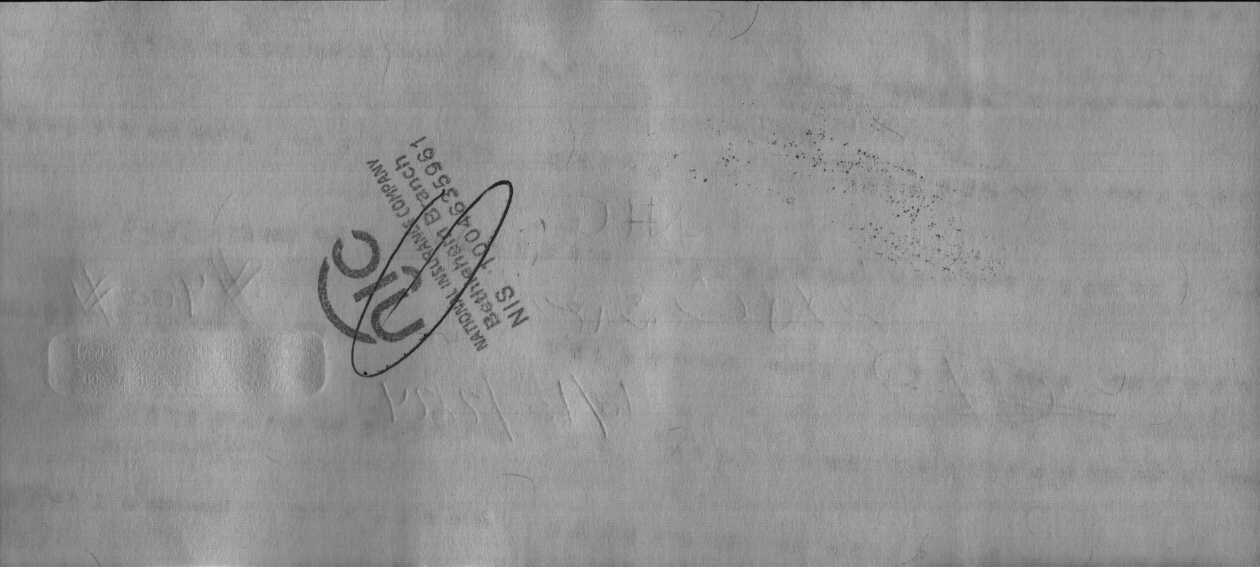stamp: (310, 133, 531, 356)
